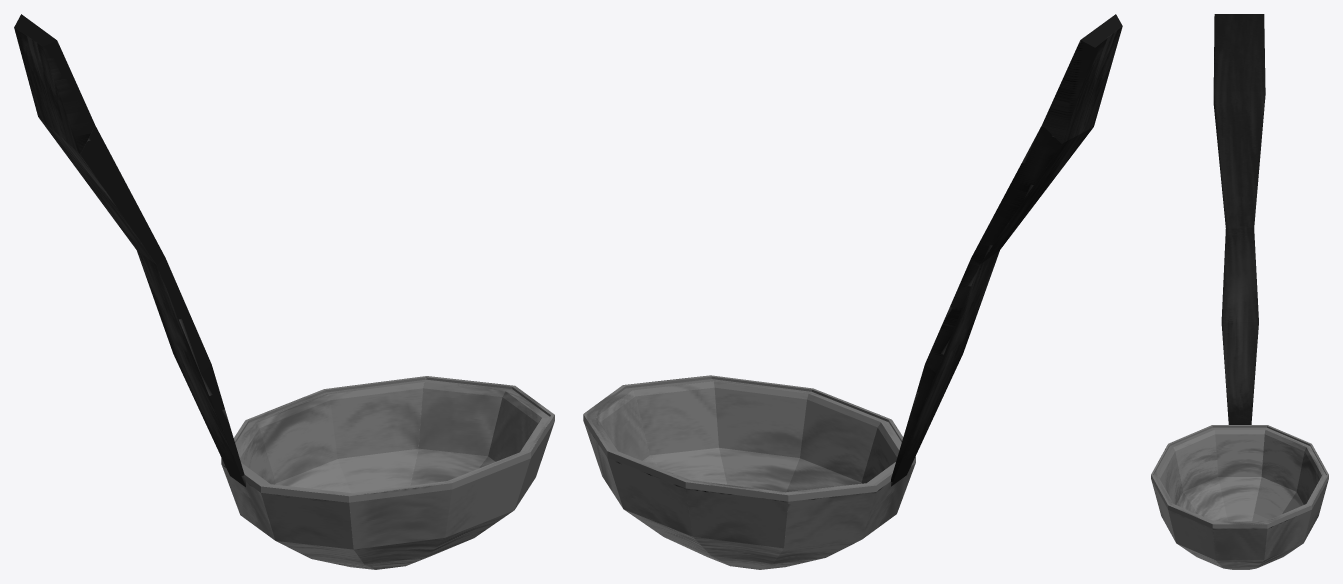
File: CUCHARA HONDA 02.fbx
3 renders of one model, left to right at view 1: azimuth 30°, elevation 25°; view 2: azimuth 150°, elevation 25°; view 3: azimuth 270°, elevation 25°, orthographic. The views are drawn at different scales.
Parts seen in each view (by area): view 1: Cylinder, Cube; view 2: Cylinder, Cube; view 3: Cylinder, Cube.
Boxes of the visible parts, x1,y1,x2,y2 form: Cylinder: (221,376,554,569); Cube: (14,14,245,487); Cylinder: (583,375,915,569); Cube: (891,14,1122,486); Cylinder: (1151,425,1328,569); Cube: (1213,14,1265,424).
Bounding box in the file's own units: 456 × 526 × 200.
1 material, 1 textured.
